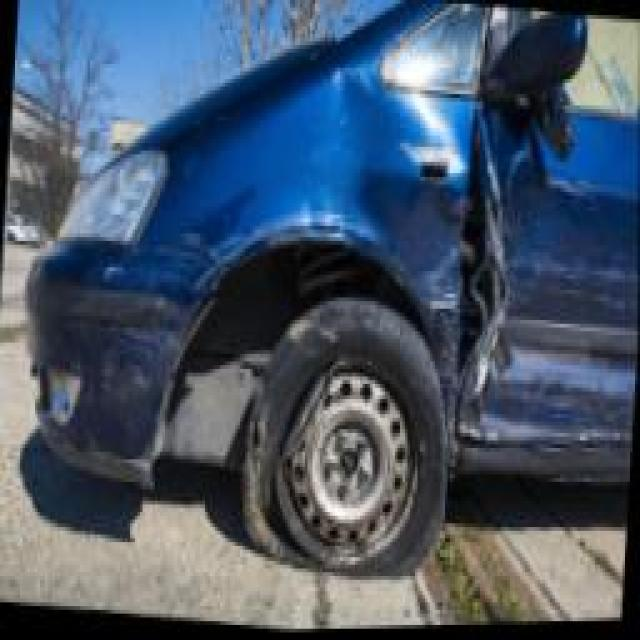Bumper: (12, 230, 199, 513)
Door: (460, 75, 639, 464)
Fender: (175, 53, 476, 335)
